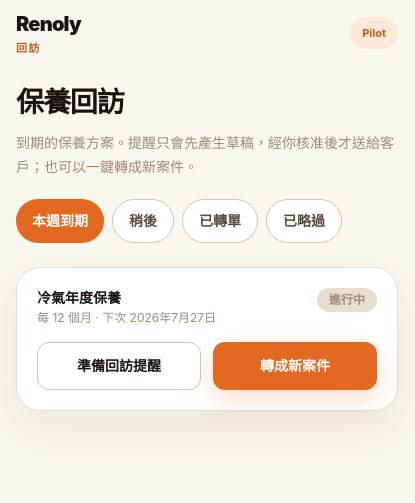
Test: FollowUpsView › lists a due plan on the 本週到期 tab and prepares an approval-pending reminder
This screenshot has width=415, height=503.
Expected: the text "冷氣年度保養" is shown, [37,288,121,306]
Click the button "準備回訪提醒" at (119, 366), box [37,342,201,390]
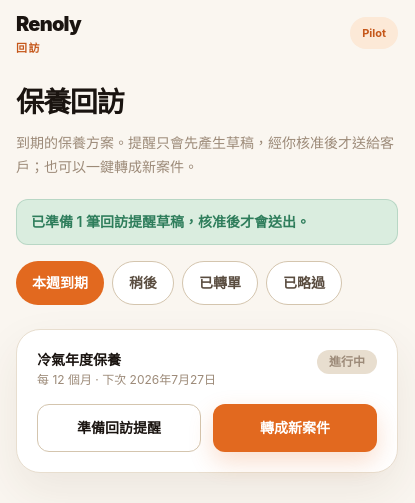
Expected: the text "已準備 1 筆回訪提醒草稿，核准後才會送出。" is shown, [16,198,398,244]
